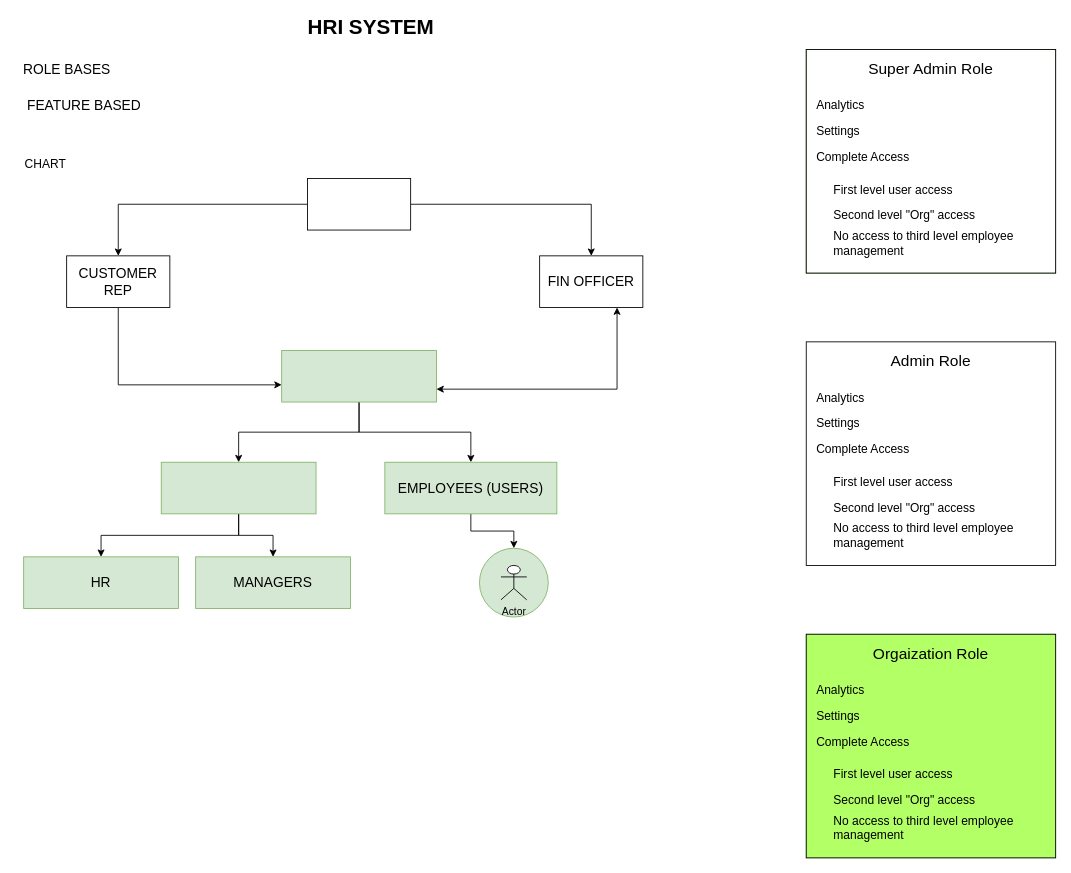
This 1071x873 diagram has some shape labels left out. Each missing label, with the box of its shape:
ADMIN (ORG): (160, 461, 316, 514)
ORGANIZATION (ORG): (281, 350, 436, 402)
SUPER ADMIN: (307, 178, 411, 230)
